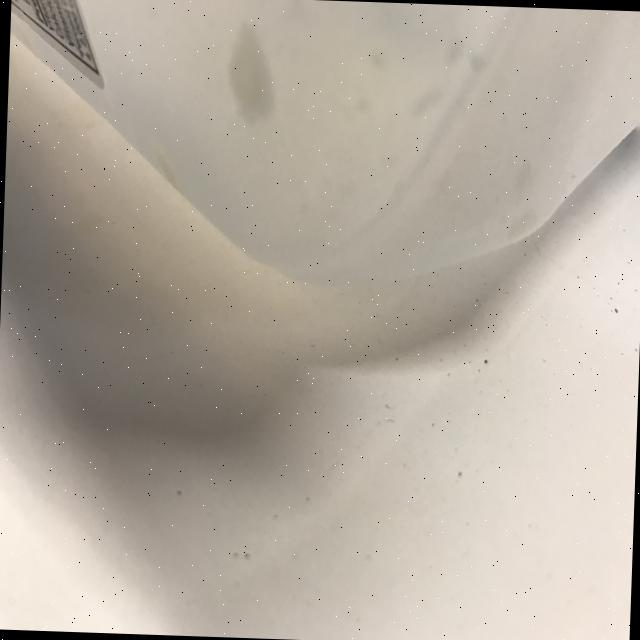plastic: (0, 0, 633, 350)
